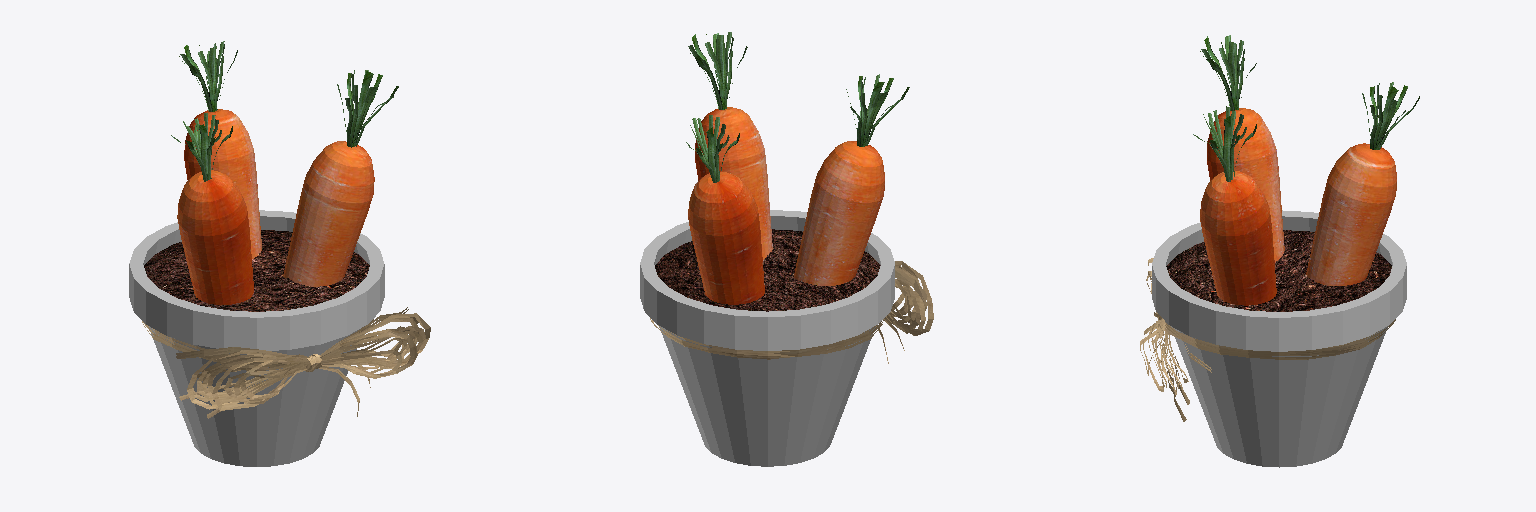
The picture shows the model from 3 angles: view 1: azimuth 30°, elevation 25°; view 2: azimuth 150°, elevation 25°; view 3: azimuth 270°, elevation 25°; orthographic projection.
Visible parts, largest first — view 1: Cylinder.001_Cylinder.002, Cylinder_Cylinder.001, Plane.001_Plane.004, Cylinder.002_Cylinder.003; view 2: Cylinder.001_Cylinder.002, Cylinder_Cylinder.001, Plane.001_Plane.004, Cylinder.002_Cylinder.003; view 3: Cylinder.001_Cylinder.002, Cylinder_Cylinder.001, Cylinder.002_Cylinder.003, Plane.001_Plane.004.
Part boxes in pixels (x1,y1,x2,y2): Cylinder.001_Cylinder.002: (129, 210, 384, 466); Cylinder_Cylinder.001: (171, 41, 398, 304); Plane.001_Plane.004: (176, 307, 430, 418); Cylinder.002_Cylinder.003: (142, 319, 373, 366); Cylinder.001_Cylinder.002: (640, 210, 894, 466); Cylinder_Cylinder.001: (686, 32, 909, 304); Plane.001_Plane.004: (876, 261, 933, 363); Cylinder.002_Cylinder.003: (650, 317, 885, 359); Cylinder.001_Cylinder.002: (1152, 210, 1406, 467); Cylinder_Cylinder.001: (1193, 35, 1419, 305); Cylinder.002_Cylinder.003: (1165, 319, 1395, 359); Plane.001_Plane.004: (1140, 258, 1211, 421).
Size of the model in its own units: 1.53 by 2.24 by 1.55.
Materials: 3 (2 with a texture image).